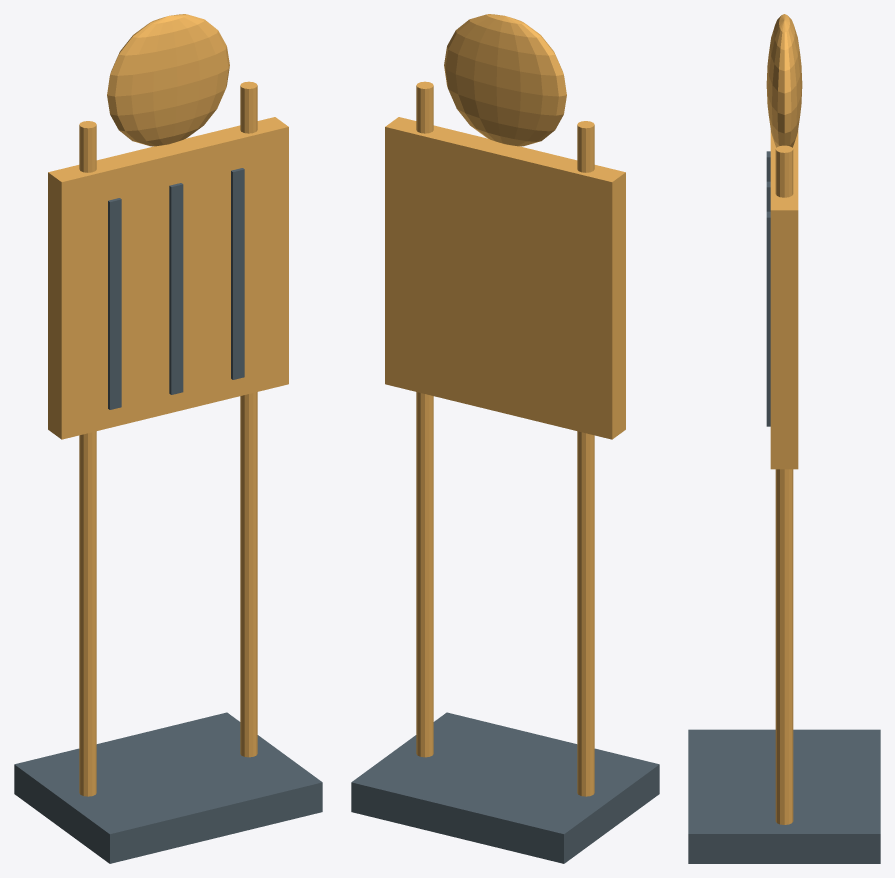
File: free-kick-mannequin-1412ba74.glb
The picture shows the model from 3 angles, left to right: view 1: azimuth 30°, elevation 25°; view 2: azimuth 150°, elevation 25°; view 3: azimuth 270°, elevation 25°; orthographic projection.
Parts seen in each view (by area): view 1: free-kick-mannequin; view 2: free-kick-mannequin; view 3: free-kick-mannequin.
Boxes of the visible parts, x1,y1,x2,y2 form: free-kick-mannequin: [14, 14, 322, 863]; free-kick-mannequin: [351, 14, 659, 863]; free-kick-mannequin: [688, 14, 880, 863].
Bounding box in the file's own units: 0.4801 × 1.59 × 0.35.
